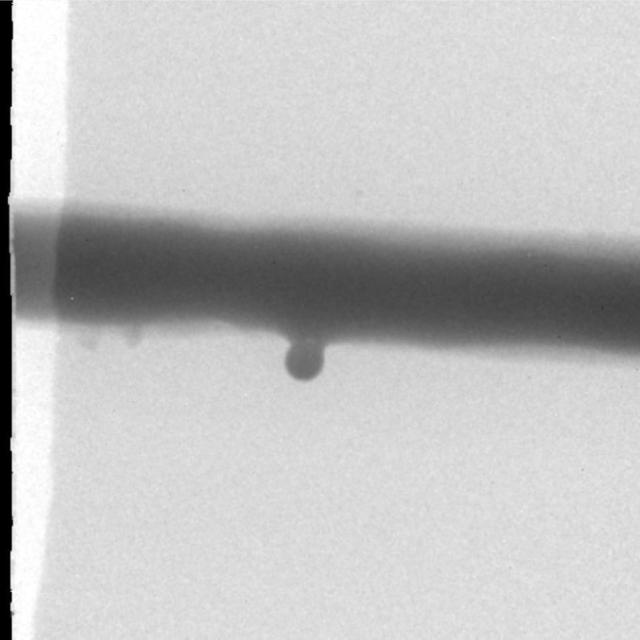overlap: (281, 329, 324, 381)
